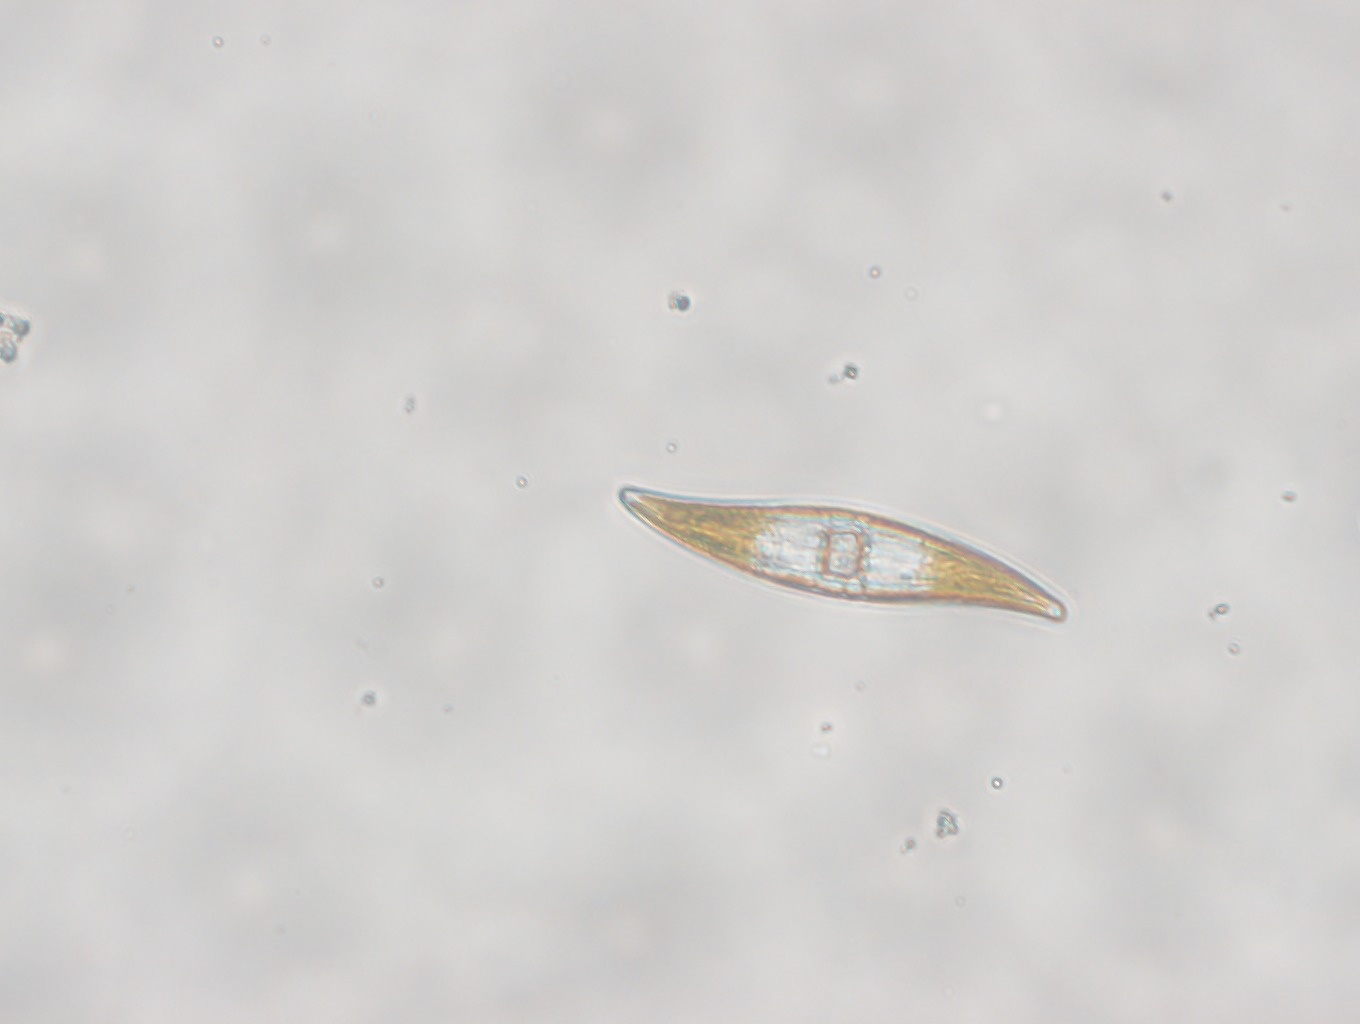pleurosigma pelagicum: (610, 464, 1073, 645)
